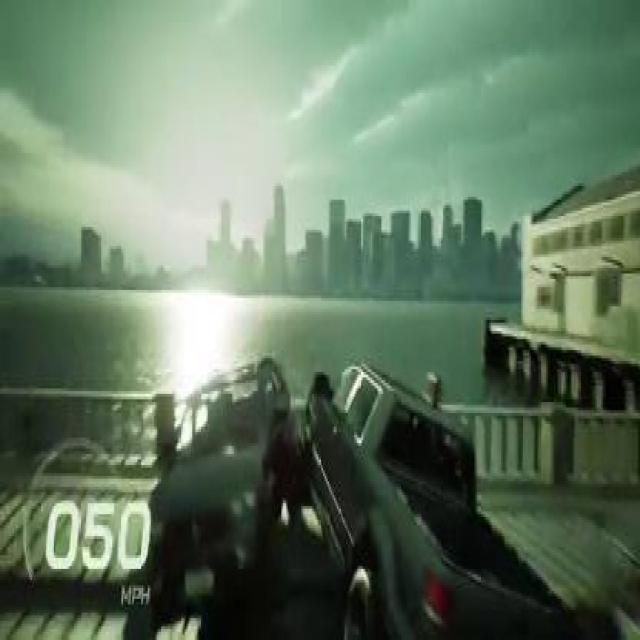accident: (118, 358, 568, 638)
